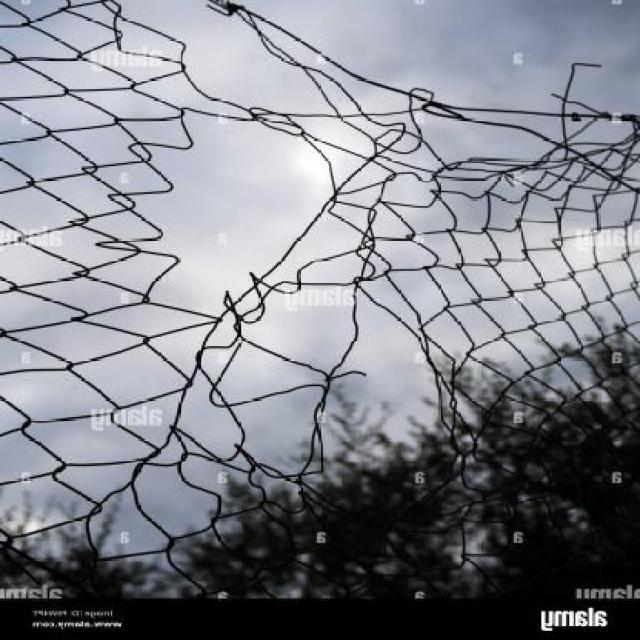fence line: (121, 15, 474, 512)
